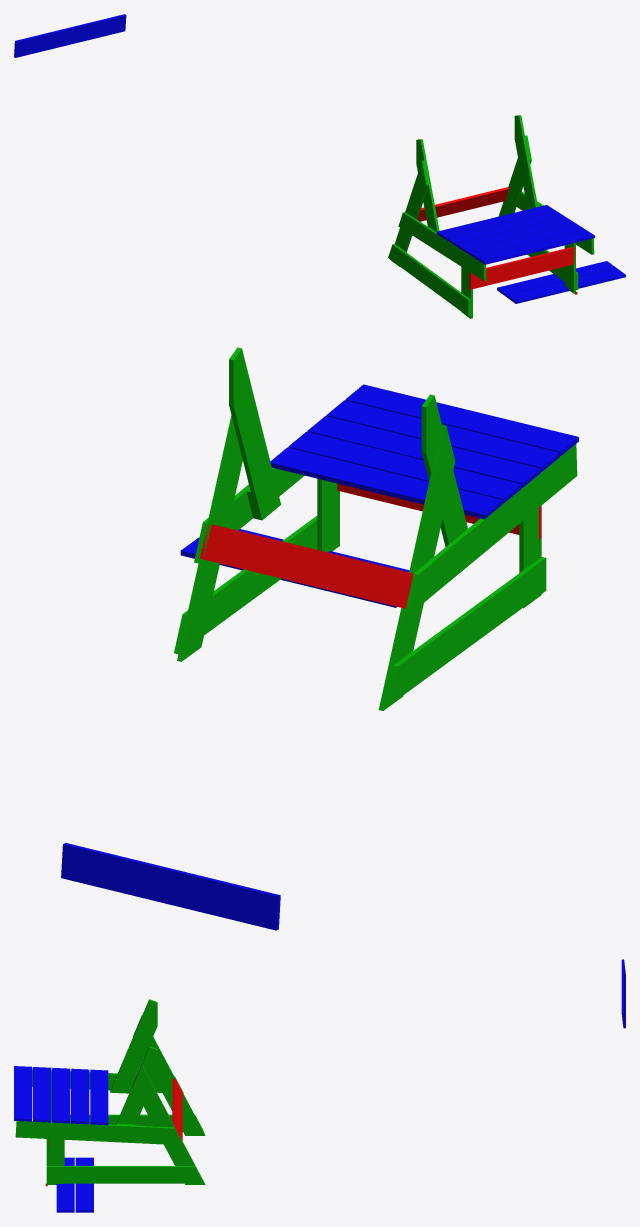
File: result.glb
3 renders of one model, top to bottom at view 1: azimuth 30°, elevation 25°; view 2: azimuth 150°, elevation 25°; view 3: azimuth 270°, elevation 25°, orthographic. The views are drawn at different scales.
Visible parts, largest first — view 1: 19fdfa53-7b91-42aa-aa22-c8e80e2bf434__Box_9, 0f43f04b-3bc9-477c-ad50-db3d2f26be1b__Plane_1, 6a7217e6-48d3-44f5-97d3-2a46a38a284f__undefined, 0fec57d8-556f-4f0d-8430-3949ab29e584__undefined, 6db33a27-966e-43c7-b86a-5b2d103ae23c__Box, aa65234e-f0a1-49cb-986a-b54a560cf3b0__Box_7, 55ba2ed3-2921-4d24-8791-e89e1dfa144f__Plane_2, 8c04c5f5-4c59-49cc-ae4b-14873e70e9ed__Box_3, b779dd72-fda8-4f35-a99f-be4f6e73fde2__Box_1, 9934a4fa-41e3-4ce0-af0d-fd0d0ce300eb__Box_2, 567c3518-3d19-4508-be23-08fe7cb5ea5c__Box_4, 093bf26c-49bc-439a-b22b-436184adb61c__undefined (+4 smaller); view 2: 19fdfa53-7b91-42aa-aa22-c8e80e2bf434__Box_9, 55ba2ed3-2921-4d24-8791-e89e1dfa144f__Plane_2, ac02e147-ae83-44ba-af7a-ef5cbe4db2d9__undefined (×2), 0fec57d8-556f-4f0d-8430-3949ab29e584__undefined, 6a7217e6-48d3-44f5-97d3-2a46a38a284f__undefined, 567c3518-3d19-4508-be23-08fe7cb5ea5c__Box_4, 6db33a27-966e-43c7-b86a-5b2d103ae23c__Box, b7a0aba2-4a3f-412a-a2e4-c6e89127d5d1__undefined, 093bf26c-49bc-439a-b22b-436184adb61c__undefined, b779dd72-fda8-4f35-a99f-be4f6e73fde2__Box_1, 8c04c5f5-4c59-49cc-ae4b-14873e70e9ed__Box_3, 9934a4fa-41e3-4ce0-af0d-fd0d0ce300eb__Box_2 (+6 smaller); view 3: 2c2f9f39-d945-4d2f-82fb-a8f1f8f79f9c__undefined, d882dec7-6e9c-40fe-8e5a-d811f7e7122e__Plane, ac02e147-ae83-44ba-af7a-ef5cbe4db2d9__undefined (×2), 85d9a89f-901b-45b6-ba2e-4c371cdfd716__undefined, b7a0aba2-4a3f-412a-a2e4-c6e89127d5d1__undefined, 6db33a27-966e-43c7-b86a-5b2d103ae23c__Box, 567c3518-3d19-4508-be23-08fe7cb5ea5c__Box_4, b779dd72-fda8-4f35-a99f-be4f6e73fde2__Box_1, 9934a4fa-41e3-4ce0-af0d-fd0d0ce300eb__Box_2, 8c04c5f5-4c59-49cc-ae4b-14873e70e9ed__Box_3, 093bf26c-49bc-439a-b22b-436184adb61c__undefined, d95bfe66-0590-4a65-a8cb-c35d0d2666f7__Box_8 (+3 smaller).
Part boxes in pixels (x1,y1,x2,y2): 19fdfa53-7b91-42aa-aa22-c8e80e2bf434__Box_9: (14,14,126,57); 0f43f04b-3bc9-477c-ad50-db3d2f26be1b__Plane_1: (469,247,575,289); 6a7217e6-48d3-44f5-97d3-2a46a38a284f__undefined: (388,244,470,316); 0fec57d8-556f-4f0d-8430-3949ab29e584__undefined: (398,212,486,281); 6db33a27-966e-43c7-b86a-5b2d103ae23c__Box: (475,229,594,264); aa65234e-f0a1-49cb-986a-b54a560cf3b0__Box_7: (506,268,625,303); 55ba2ed3-2921-4d24-8791-e89e1dfa144f__Plane_2: (417,187,509,221); 8c04c5f5-4c59-49cc-ae4b-14873e70e9ed__Box_3: (446,211,565,245); b779dd72-fda8-4f35-a99f-be4f6e73fde2__Box_1: (466,223,585,258); 9934a4fa-41e3-4ce0-af0d-fd0d0ce300eb__Box_2: (456,217,575,252); 567c3518-3d19-4508-be23-08fe7cb5ea5c__Box_4: (436,205,555,239); 093bf26c-49bc-439a-b22b-436184adb61c__undefined: (514,115,537,209); 19fdfa53-7b91-42aa-aa22-c8e80e2bf434__Box_9: (61,843,280,930); 55ba2ed3-2921-4d24-8791-e89e1dfa144f__Plane_2: (199,524,413,608); ac02e147-ae83-44ba-af7a-ef5cbe4db2d9__undefined (×2): (177,415,242,661); 0fec57d8-556f-4f0d-8430-3949ab29e584__undefined: (404,444,577,614); 6a7217e6-48d3-44f5-97d3-2a46a38a284f__undefined: (384,557,546,705); 567c3518-3d19-4508-be23-08fe7cb5ea5c__Box_4: (270,447,502,519); 6db33a27-966e-43c7-b86a-5b2d103ae23c__Box: (345,384,578,456); b7a0aba2-4a3f-412a-a2e4-c6e89127d5d1__undefined: (378,424,455,710); 093bf26c-49bc-439a-b22b-436184adb61c__undefined: (229,347,280,520); b779dd72-fda8-4f35-a99f-be4f6e73fde2__Box_1: (326,400,559,471); 8c04c5f5-4c59-49cc-ae4b-14873e70e9ed__Box_3: (288,431,521,503); 9934a4fa-41e3-4ce0-af0d-fd0d0ce300eb__Box_2: (307,416,540,487); 2c2f9f39-d945-4d2f-82fb-a8f1f8f79f9c__undefined: (15,1120,183,1145); d882dec7-6e9c-40fe-8e5a-d811f7e7122e__Plane: (46,1166,203,1183); ac02e147-ae83-44ba-af7a-ef5cbe4db2d9__undefined (×2): (133,1065,205,1184); 85d9a89f-901b-45b6-ba2e-4c371cdfd716__undefined: (110,999,157,1093); b7a0aba2-4a3f-412a-a2e4-c6e89127d5d1__undefined: (133,1015,205,1135); 6db33a27-966e-43c7-b86a-5b2d103ae23c__Box: (14,1066,32,1121); 567c3518-3d19-4508-be23-08fe7cb5ea5c__Box_4: (90,1069,108,1125); b779dd72-fda8-4f35-a99f-be4f6e73fde2__Box_1: (33,1067,51,1122); 9934a4fa-41e3-4ce0-af0d-fd0d0ce300eb__Box_2: (52,1067,70,1123); 8c04c5f5-4c59-49cc-ae4b-14873e70e9ed__Box_3: (71,1068,89,1124); 093bf26c-49bc-439a-b22b-436184adb61c__undefined: (116,1046,157,1124); d95bfe66-0590-4a65-a8cb-c35d0d2666f7__Box_8: (75,1157,93,1212).
Bounding box in the file's own units: 1805 × 758 × 3048.
